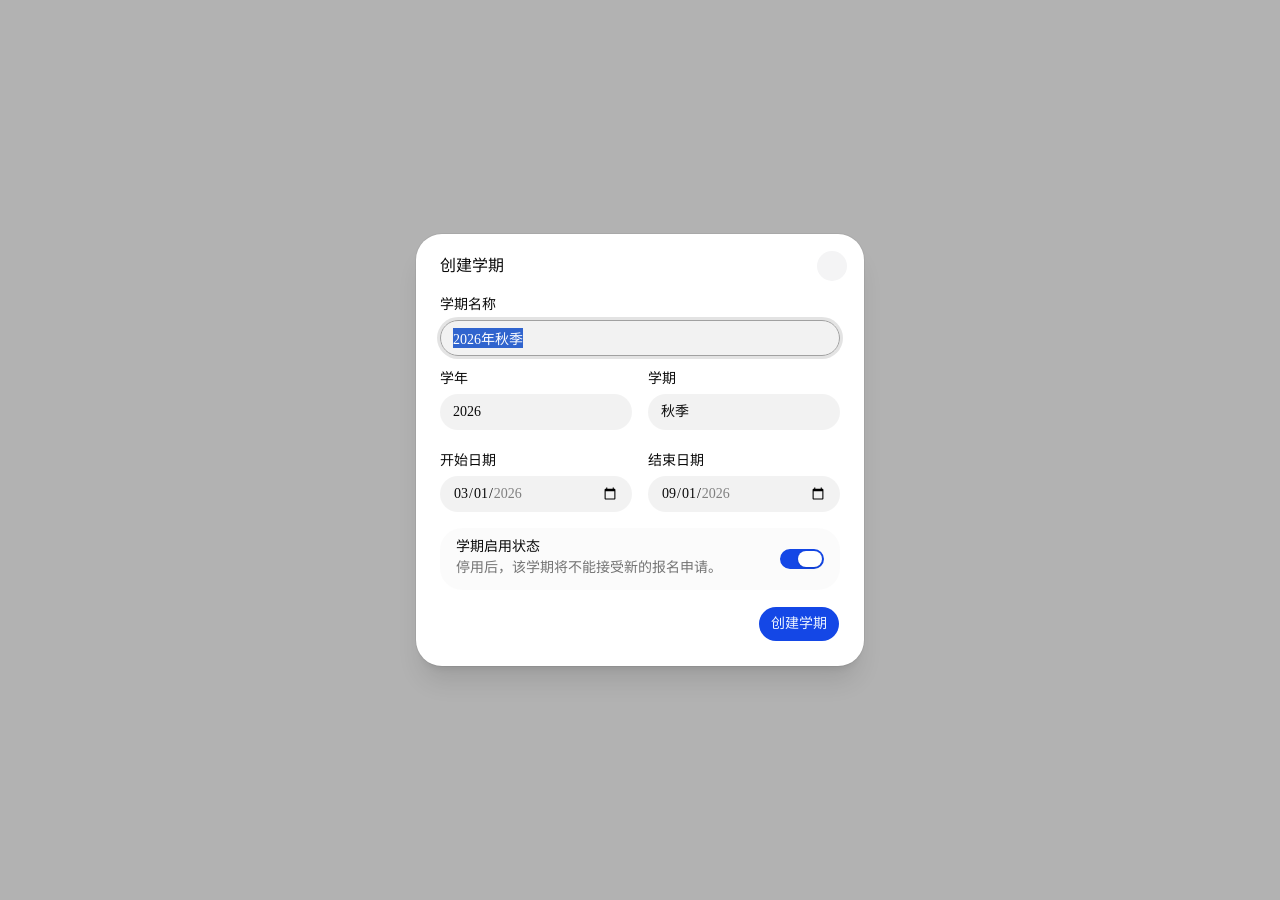
Test: SemesterFormDialog › shows year options for the current year plus or minus five
The width and height of the screenshot is (1280, 900).
What coordinates should you click on to do the following:
click the dropdown named "学年"
I would click on:
 (536, 412)
Its box is [440,394,632,430].
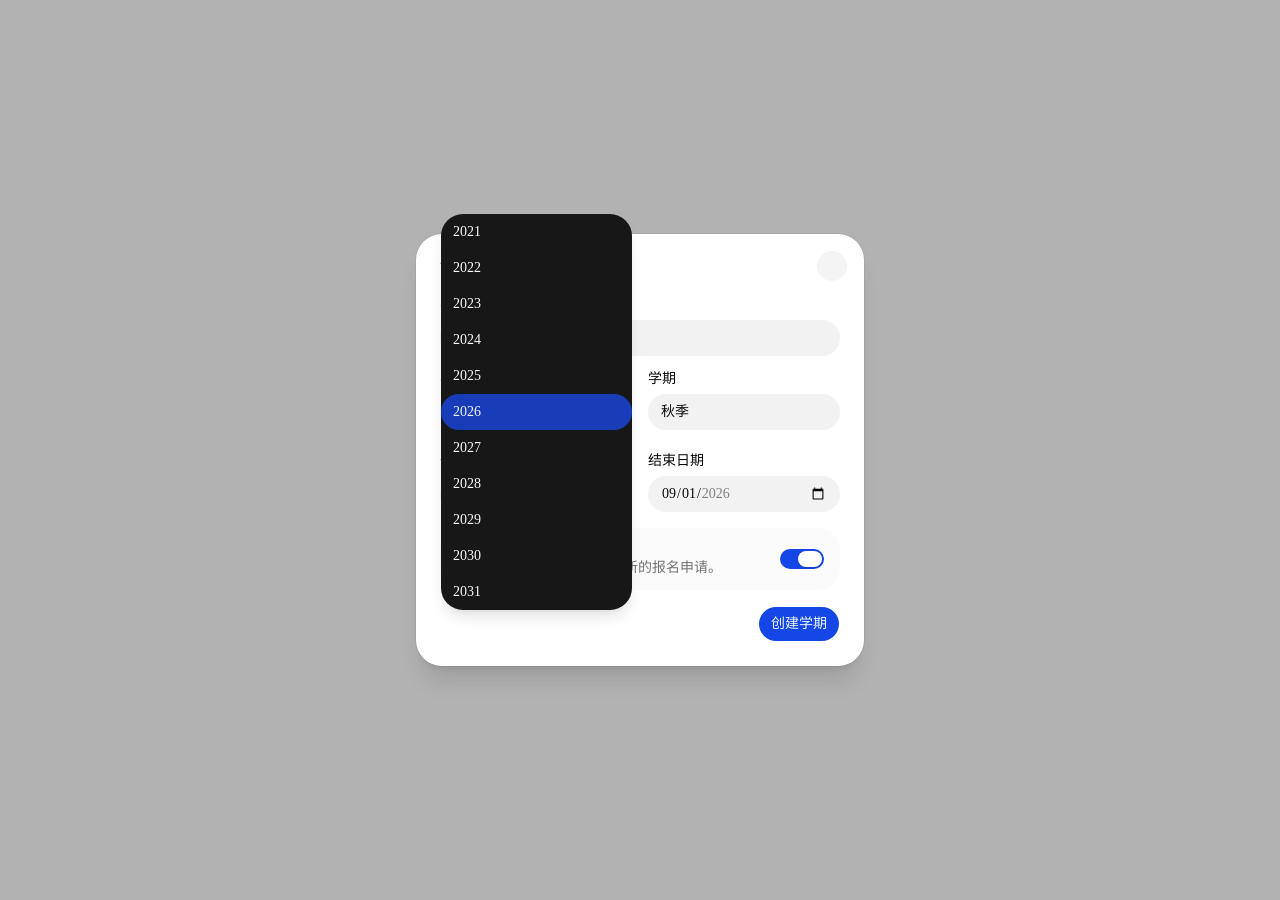
Check: the option "2021" is shown, box [453,224,481,239]
Check: the option "2026" is shown, box [441,394,632,430]
Check: the option "2031" is shown, box [453,584,481,599]
